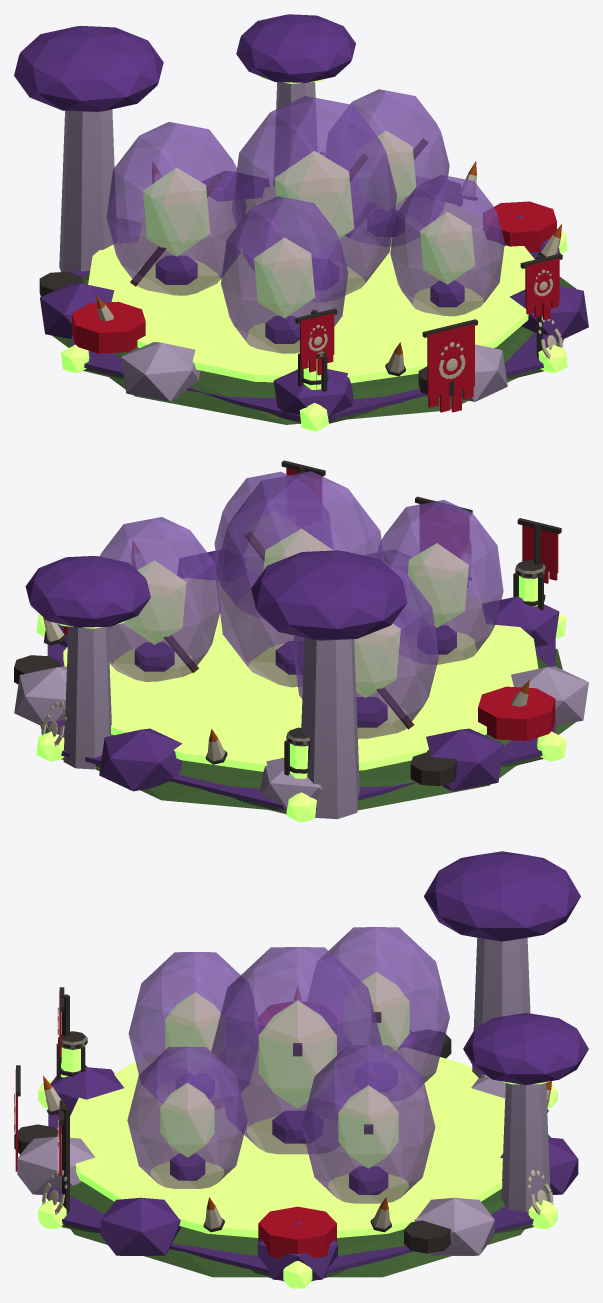
Rendered from sb_barracks.glb.
3 renders of one model, top to bottom at view 1: azimuth 30°, elevation 25°; view 2: azimuth 150°, elevation 25°; view 3: azimuth 270°, elevation 25°, orthographic. The views are drawn at different scales.
Parts seen in each view (by area): view 1: sb_barracks; view 2: sb_barracks; view 3: sb_barracks.
Part boxes in pixels (left/top/right/bottom): sb_barracks: left=14, top=14, right=588, bottom=431; sb_barracks: left=14, top=460, right=588, bottom=822; sb_barracks: left=14, top=851, right=588, bottom=1288.
Bounding box in the file's own units: 7.59 × 3.35 × 7.31.
